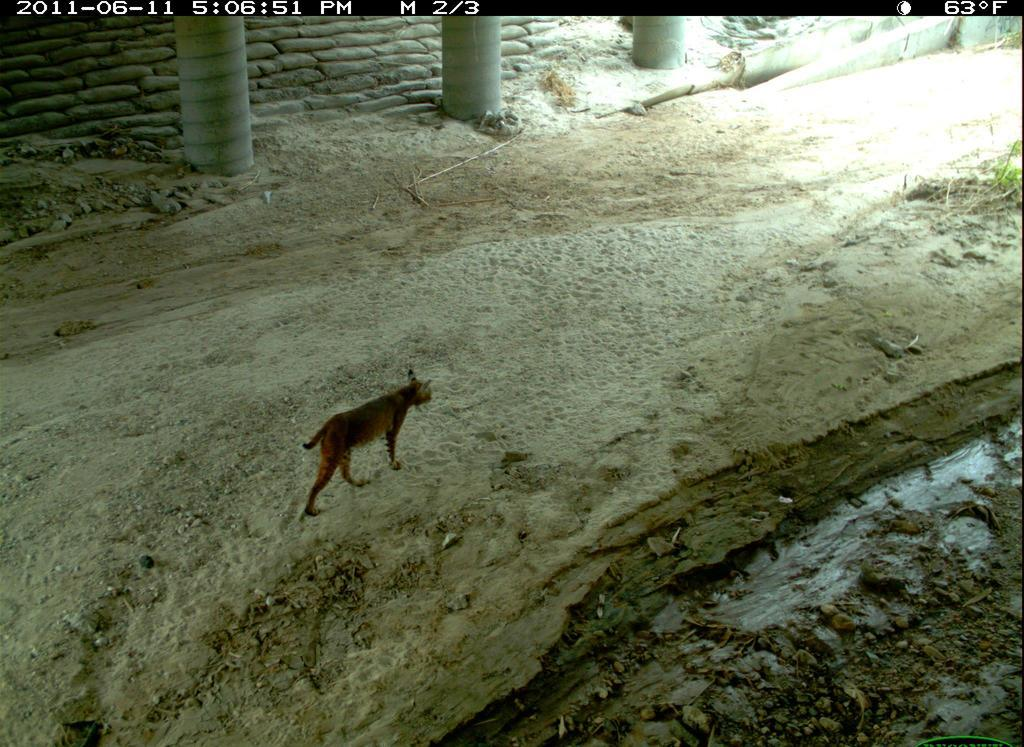bobcat: (292, 358, 441, 524)
